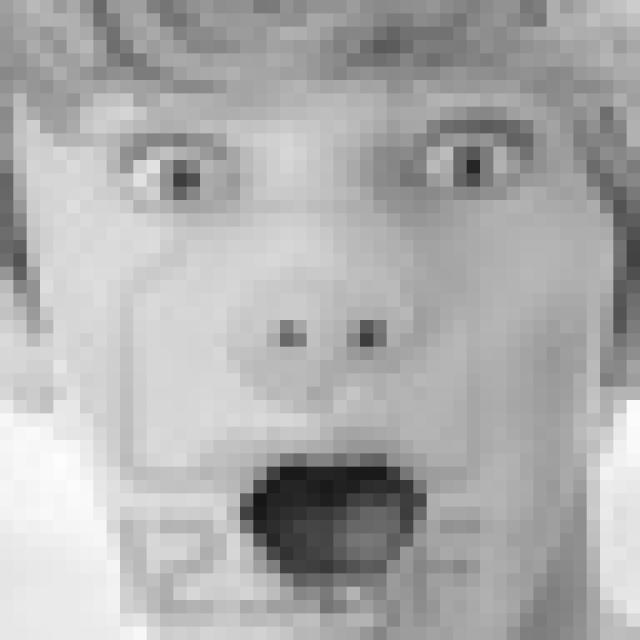surprise: (84, 76, 570, 614)
